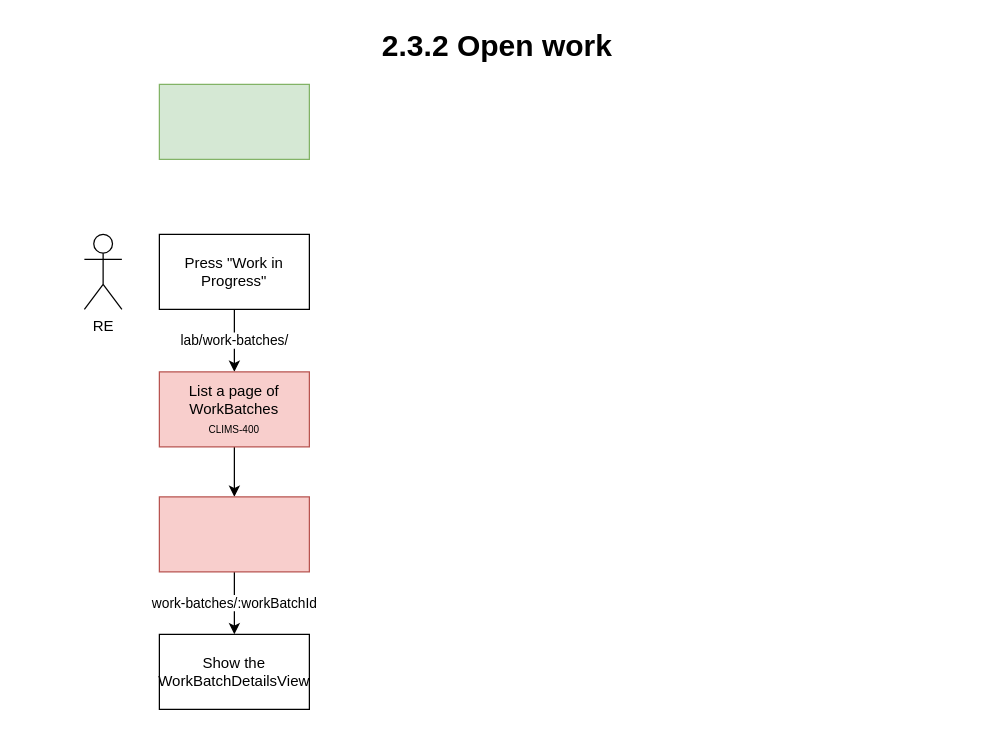
Some shapes in this 993 by 731 pixel diagram are drawn without their labels. Each missing label, with the box of its shape:
2.3.1: Start work: (158, 83, 309, 159)
Press any WorkBatch: (158, 496, 309, 572)
